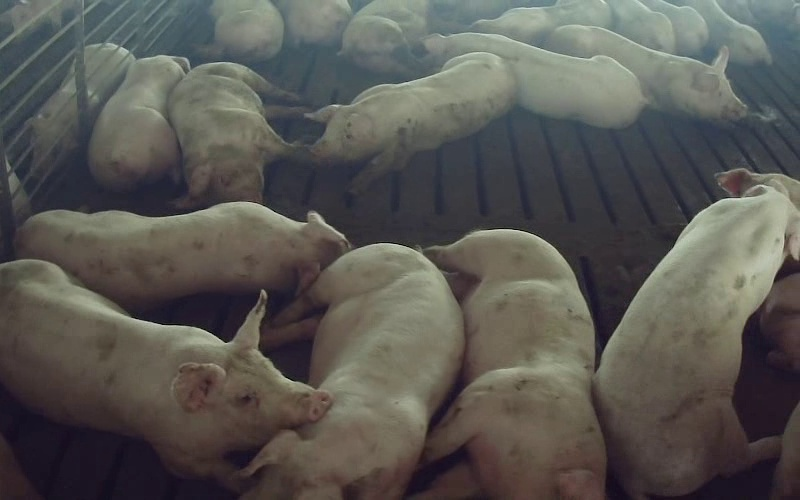pig: (242, 244, 463, 499), (415, 230, 605, 499), (15, 202, 349, 310), (309, 52, 515, 193), (424, 33, 645, 127), (168, 63, 307, 208), (88, 55, 188, 191)
